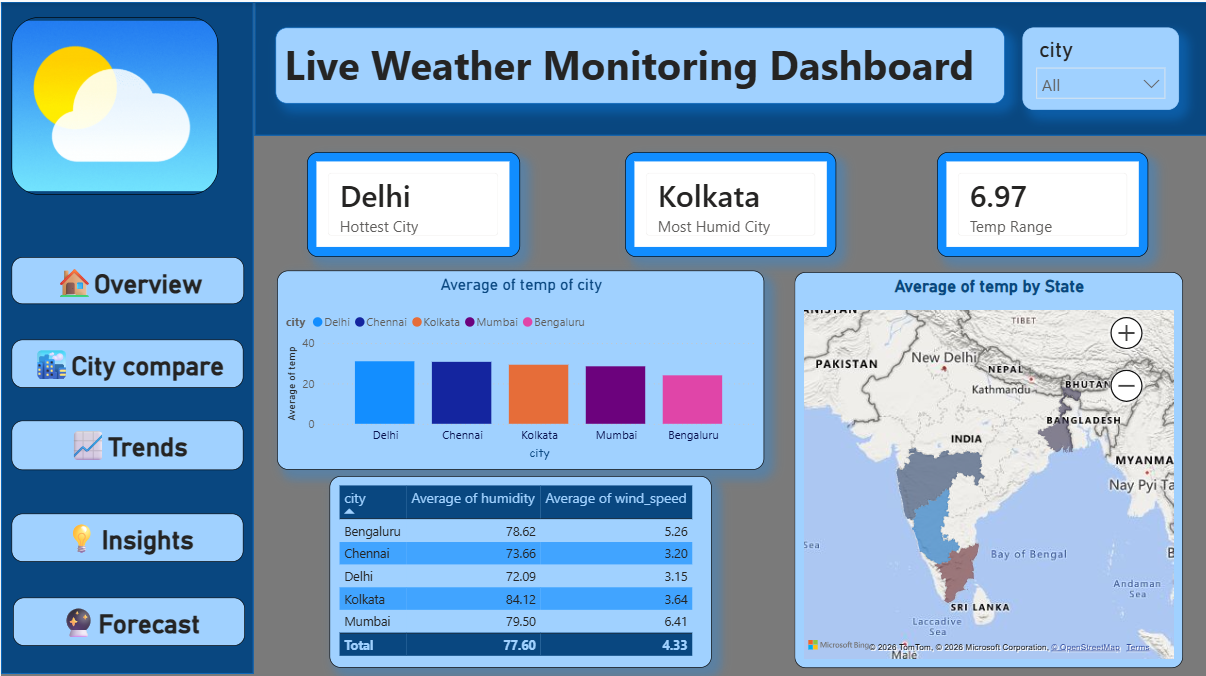

Layout of this report page (visuals, bound fields, positions):
{"tool":"powerbi","page":{"name":"City comparison ","canvas":[1280,720],"ordinal":1},"visuals":[{"type":"shape","box":[268.3,0,1012.9,141.7],"z":0},{"type":"shape","box":[0,0,267.9,712.5],"z":1000},{"type":"cardVisual","fields":{"Data":["weather_log.Hottest City"]},"box":[324.5,159.1,225.9,111.3],"z":2000},{"type":"cardVisual","fields":{"Data":["weather_log.Most Humid City"]},"box":[661.7,159.1,224.3,111.3],"z":3000},{"type":"slicer","fields":{"Values":["weather_log.city"]},"box":[1083.9,26.8,166.1,87.5],"z":4000},{"type":"cardVisual","fields":{"Data":["weather_log.Temp Range"]},"box":[992.5,159.1,224.3,111.3],"z":5000},{"type":"textbox","box":[291.1,26.8,773.2,80.4],"z":6000},{"type":"actionButton","title":"\t🏠Overview","box":[10.7,269.6,246.4,50],"z":7000},{"type":"actionButton","title":"🏙️City compare","box":[11.3,357.2,245.7,51],"z":8000},{"type":"actionButton","title":"📈Trends ","box":[11.3,444.1,245.7,52.9],"z":9000},{"type":"image","box":[11.3,15.1,219.2,189],"z":10000},{"type":"columnChart","title":"Average of temp of city","fields":{"Category":["weather_log.city"],"Y":["Avg(weather_log.temp)"],"Series":["weather_log.city"]},"box":[292.5,285,516.9,211.6],"z":11000},{"type":"tableEx","fields":{"Values":["weather_log.city","Avg(weather_log.humidity)","Avg(weather_log.wind_speed)"]},"box":[348.3,502.6,405.6,203.6],"z":12000},{"type":"filledMap","fields":{"Category":["weather_log.State"]},"box":[842,286,412,420],"z":13000},{"type":"actionButton","title":"💡Insights","box":[11.3,542.4,245.7,51],"z":14000},{"type":"actionButton","title":"🔮Forecast","box":[12,632,245.7,51],"z":15000}]}

Visuals, with their boxes in screenshot pixels (x1, y1, x2, y2), scaled from the page's 1280x720 canvas onto the 1206x676 screenshot:
shape: {"x1": 253, "y1": 0, "x2": 1205, "y2": 133}
shape: {"x1": 0, "y1": 0, "x2": 252, "y2": 669}
cardVisual - weather_log.Hottest City: {"x1": 306, "y1": 149, "x2": 519, "y2": 254}
cardVisual - weather_log.Most Humid City: {"x1": 623, "y1": 149, "x2": 835, "y2": 254}
slicer - weather_log.city: {"x1": 1021, "y1": 25, "x2": 1178, "y2": 107}
cardVisual - weather_log.Temp Range: {"x1": 935, "y1": 149, "x2": 1146, "y2": 254}
textbox: {"x1": 274, "y1": 25, "x2": 1003, "y2": 101}
"	🏠Overview" actionButton: {"x1": 10, "y1": 253, "x2": 242, "y2": 300}
"🏙️City compare" actionButton: {"x1": 11, "y1": 335, "x2": 242, "y2": 383}
"📈Trends " actionButton: {"x1": 11, "y1": 417, "x2": 242, "y2": 467}
image: {"x1": 11, "y1": 14, "x2": 217, "y2": 192}
"Average of temp of city" columnChart: {"x1": 276, "y1": 268, "x2": 763, "y2": 466}
tableEx - weather_log.city x Avg(weather_log.humidity): {"x1": 328, "y1": 472, "x2": 710, "y2": 663}
filledMap - weather_log.State: {"x1": 793, "y1": 269, "x2": 1182, "y2": 663}
"💡Insights" actionButton: {"x1": 11, "y1": 509, "x2": 242, "y2": 557}
"🔮Forecast" actionButton: {"x1": 11, "y1": 593, "x2": 243, "y2": 641}
